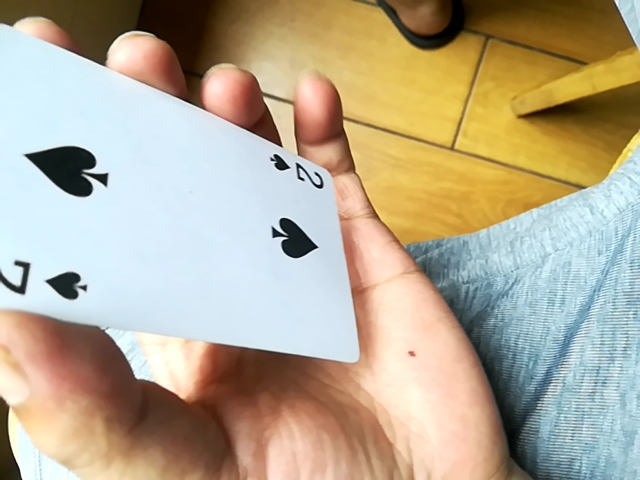ht 2: (3, 23, 352, 370)
